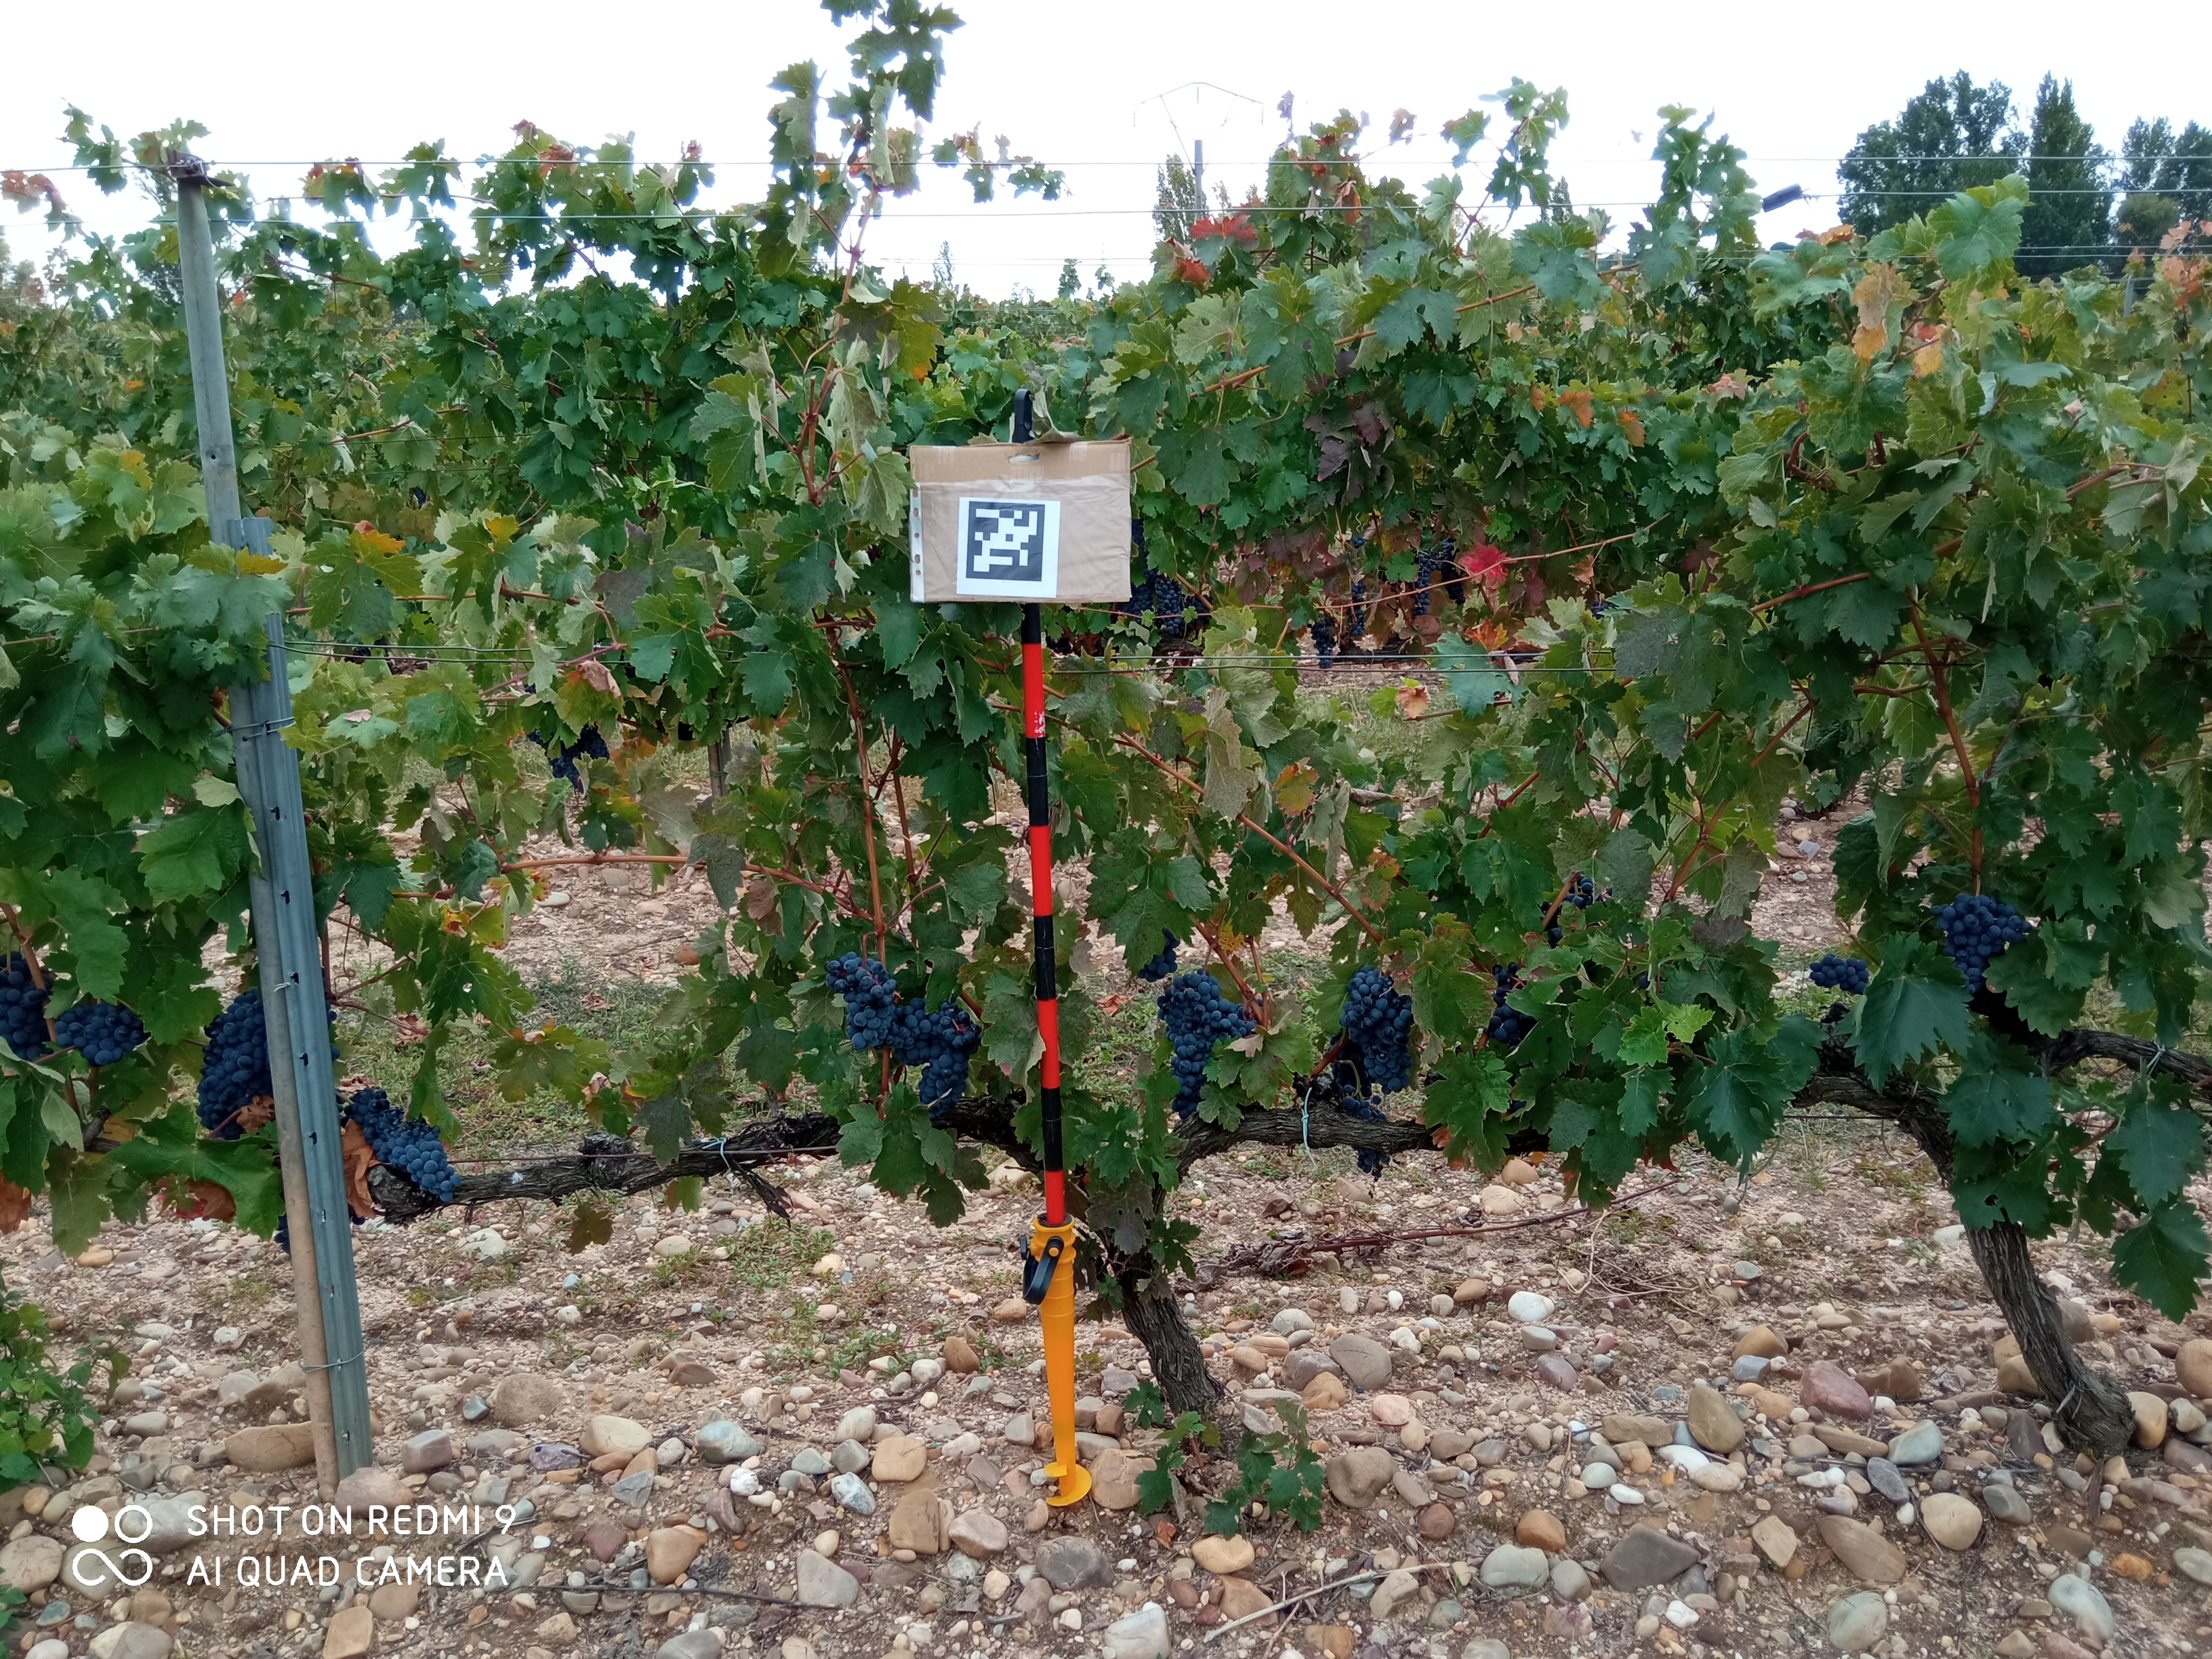grapes: (1157, 967, 1261, 1119), (341, 1087, 462, 1201), (197, 988, 272, 1140), (1930, 892, 2031, 993), (1339, 965, 1414, 1093), (826, 951, 897, 1049), (895, 1037, 968, 1119), (54, 1004, 148, 1065), (0, 951, 52, 1060), (894, 997, 981, 1053), (1489, 962, 1533, 1042), (1329, 1033, 1372, 1096), (1810, 953, 1869, 995), (1137, 931, 1179, 983), (319, 969, 340, 1058), (1341, 1086, 1386, 1119), (1357, 1148, 1390, 1176), (1564, 875, 1592, 906), (273, 1215, 291, 1253), (1541, 903, 1561, 925), (348, 1204, 364, 1225), (1548, 927, 1561, 946), (1595, 887, 1613, 899), (1508, 1101, 1524, 1110), (1639, 976, 1649, 988)
